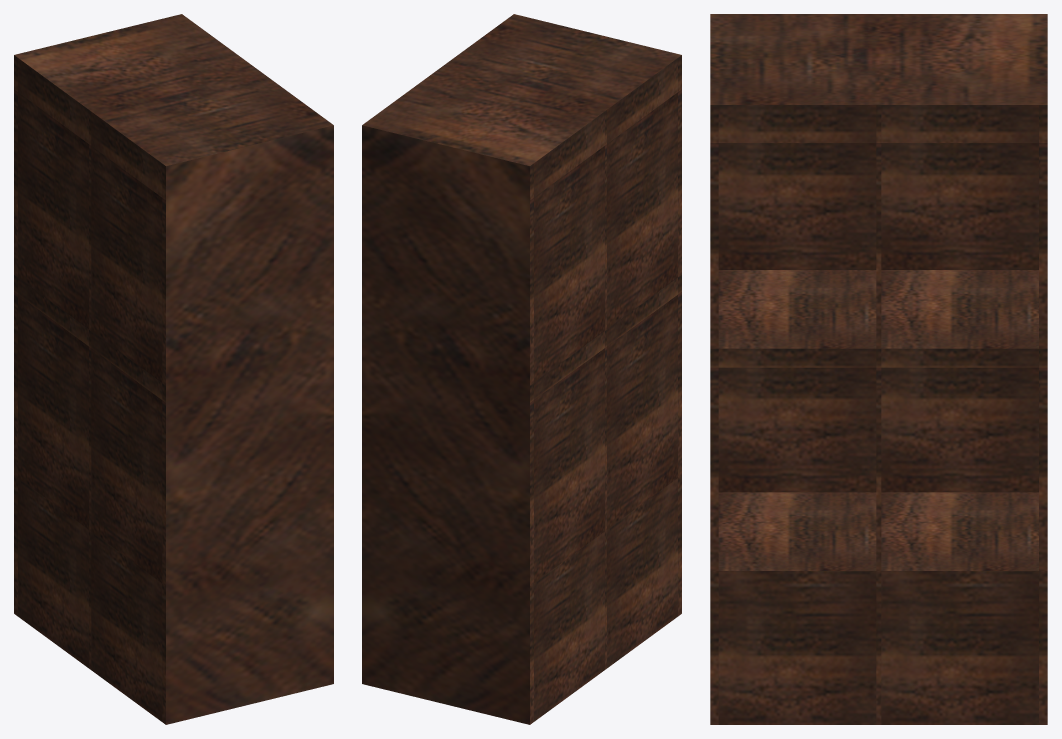
Rendered from showcasetype3.fbx.
3 renders of one model, left to right at view 1: azimuth 30°, elevation 25°; view 2: azimuth 150°, elevation 25°; view 3: azimuth 270°, elevation 25°, orthographic. The views are drawn at different scales.
Visible parts, largest first — view 1: pCube1; view 2: pCube1; view 3: pCube1.
Boxes of the visible parts, x1,y1,x2,y2 form: pCube1: (14, 14, 333, 724); pCube1: (362, 14, 681, 724); pCube1: (710, 14, 1047, 724).
Bounding box in the file's own units: 0.618 × 1.96 × 0.969.
